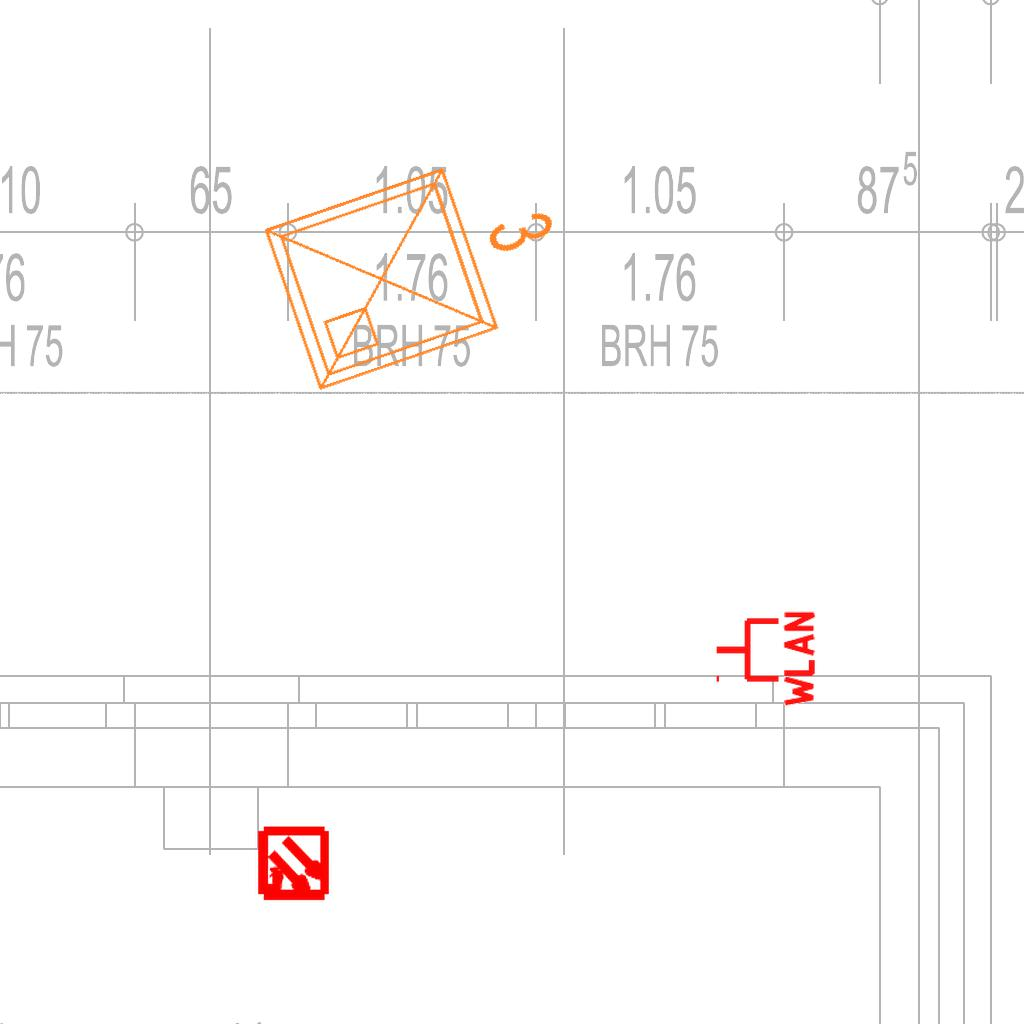Einbaudownlights_LED_Konferenzraeume: (243, 114, 595, 410)
OT_Multisensormelder_(Kombination_RMO_WMD): (237, 809, 350, 922)
WLAN: (712, 607, 817, 711)
